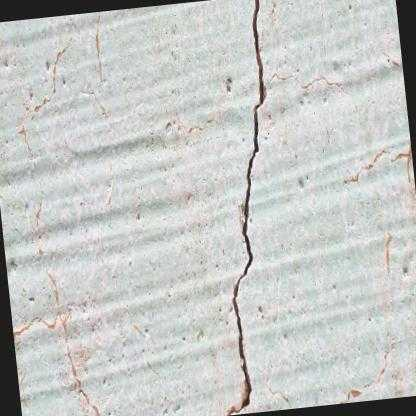crack: (222, 0, 268, 416)
